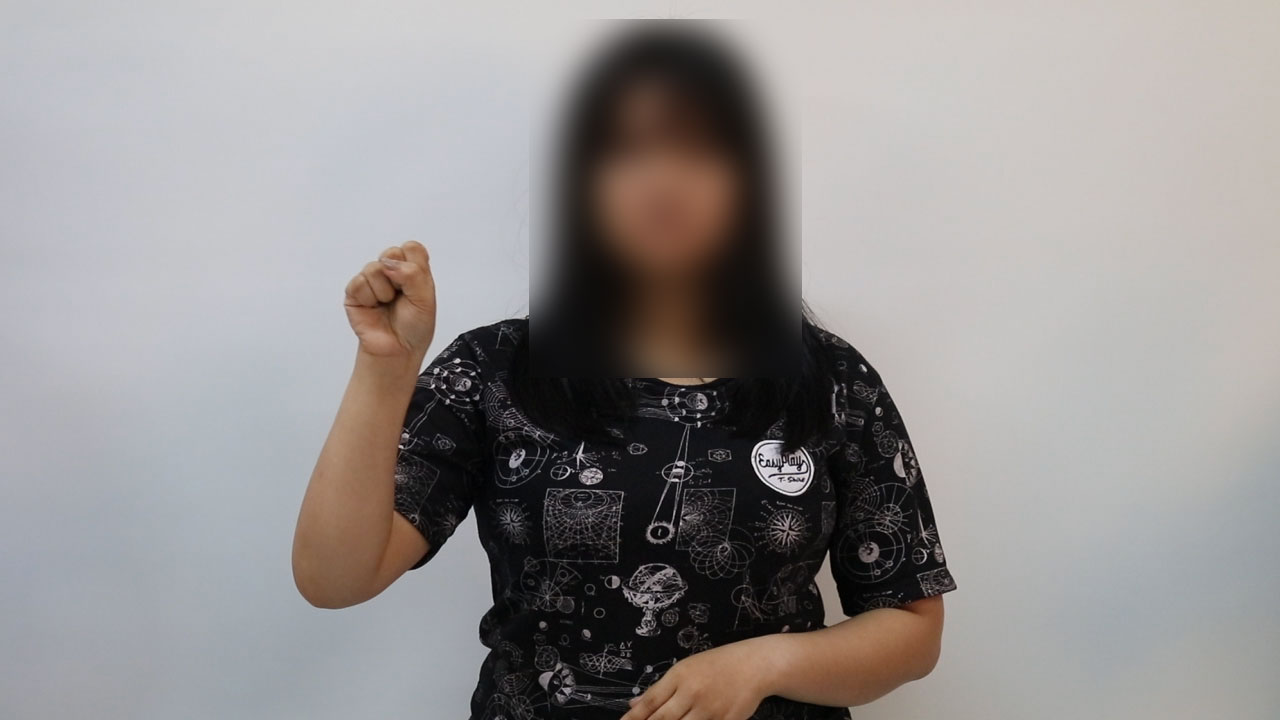sor: (331, 230, 447, 370)
